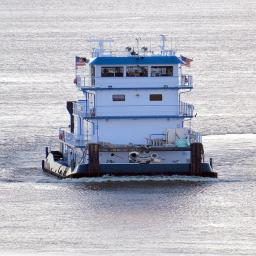tugboat: (40, 34, 221, 184)
